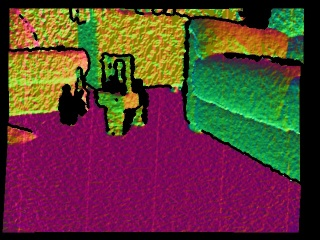station: (96, 51, 140, 111)
